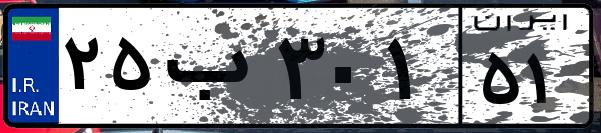0: (330, 28, 385, 110)
1: (385, 28, 445, 110), (525, 38, 570, 115)
2: (57, 26, 110, 100)
3: (270, 28, 330, 110)
5: (475, 38, 525, 113), (110, 28, 158, 98)
ب: (158, 20, 270, 120)
